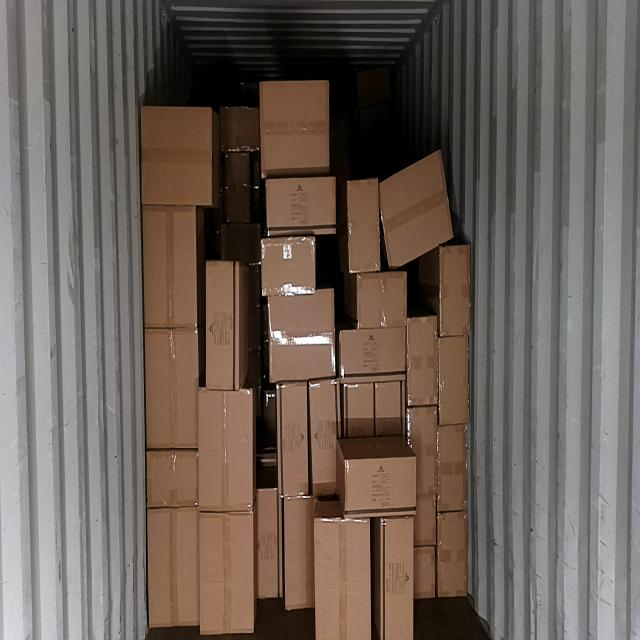carton: (378, 150, 453, 268), (140, 107, 213, 208), (315, 518, 371, 640), (260, 80, 331, 176), (199, 514, 252, 638), (199, 390, 252, 514), (141, 210, 196, 329), (146, 328, 198, 448), (148, 507, 198, 627), (271, 290, 334, 381), (205, 260, 238, 391), (264, 177, 336, 237), (275, 382, 312, 494), (408, 409, 438, 544), (346, 458, 418, 514), (380, 516, 412, 640), (283, 498, 314, 612), (312, 379, 340, 498), (340, 328, 408, 376), (263, 237, 315, 296), (439, 248, 472, 338), (146, 451, 198, 508), (256, 488, 282, 599), (349, 180, 380, 272), (439, 334, 470, 425), (438, 509, 468, 601), (357, 272, 408, 325), (407, 318, 437, 404), (439, 426, 469, 509), (344, 383, 374, 439), (376, 382, 405, 437), (414, 547, 436, 601)
